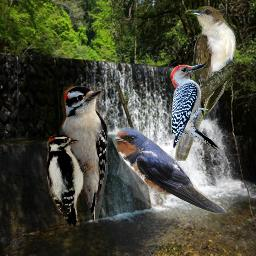Cuckoo: (175, 6, 237, 161)
Swallow: (112, 127, 227, 214)
Woodpecker: (59, 86, 108, 223), (166, 60, 224, 157), (47, 135, 94, 227)
